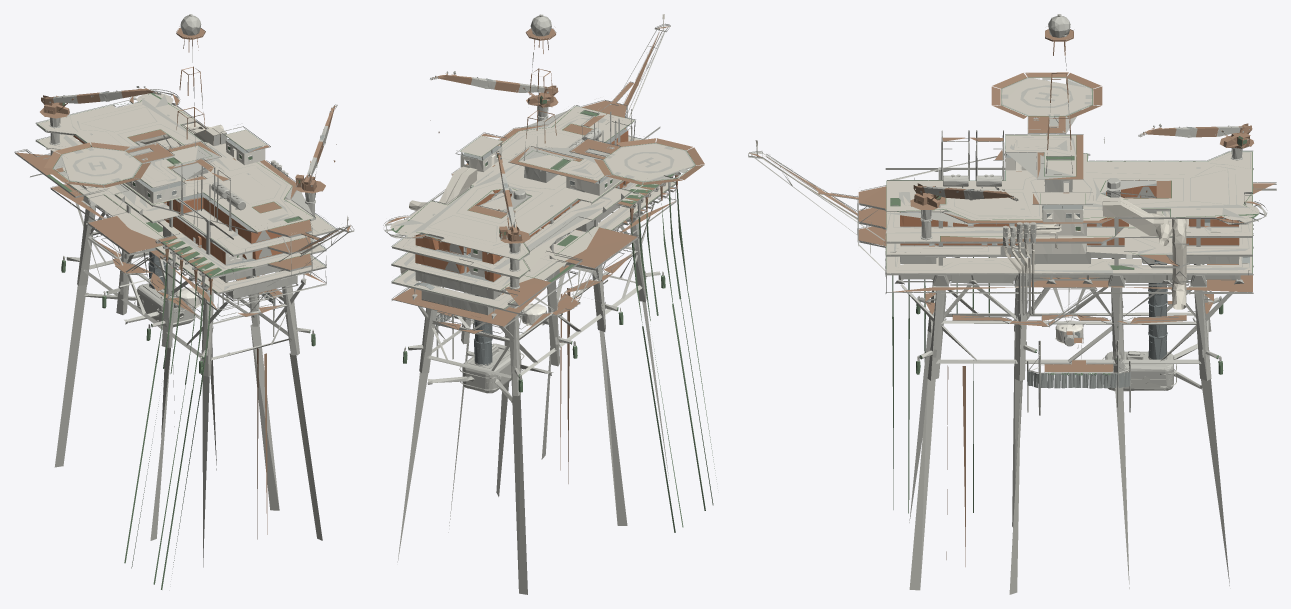
Rendered from oilrig_1-map.glb.
3 renders of one model, left to right at view 1: azimuth 30°, elevation 25°; view 2: azimuth 150°, elevation 25°; view 3: azimuth 270°, elevation 25°, orthographic. The views are drawn at different scales.
Parts seen in each view (by area): view 1: burner_LOD0, gas_room_LOD0; view 2: burner_LOD0, gas_room_LOD0, oilrig_moon_pool_int_LOD0; view 3: burner_LOD0, gas_room_LOD0, oilrig_moon_pool_int_LOD0.
Boxes of the visible parts, <box> form: burner_LOD0: <box>14,14,354,589</box>; gas_room_LOD0: <box>73,92,324,310</box>; burner_LOD0: <box>383,14,716,594</box>; gas_room_LOD0: <box>414,79,632,331</box>; oilrig_moon_pool_int_LOD0: <box>474,290,503,366</box>; burner_LOD0: <box>748,14,1276,594</box>; gas_room_LOD0: <box>900,127,1249,388</box>; oilrig_moon_pool_int_LOD0: <box>1148,260,1167,359</box>.
Size of the model in its own units: 74.82 by 134 by 115.
